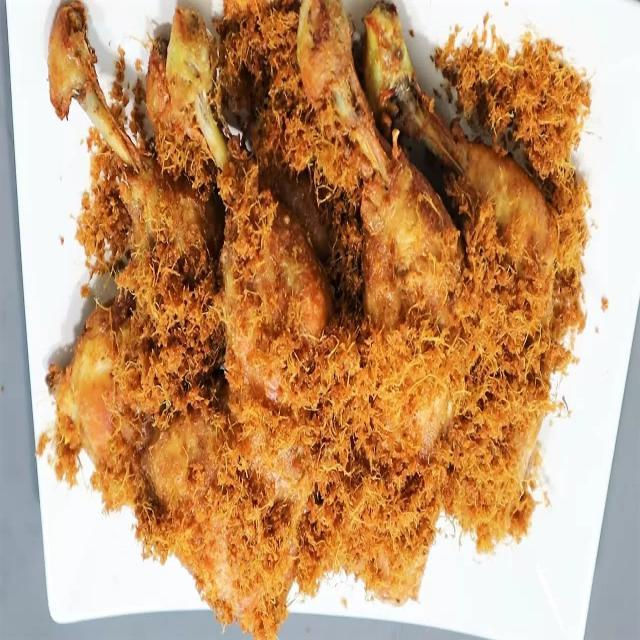ayam_goreng: (61, 31, 574, 600)
